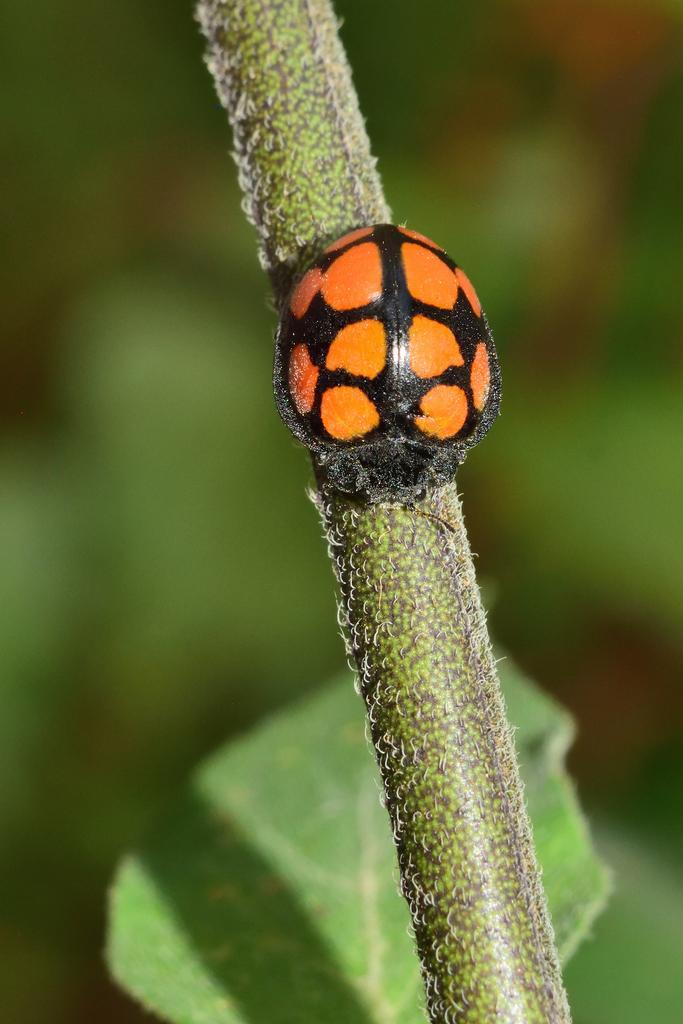ladybug: (269, 221, 511, 536)
